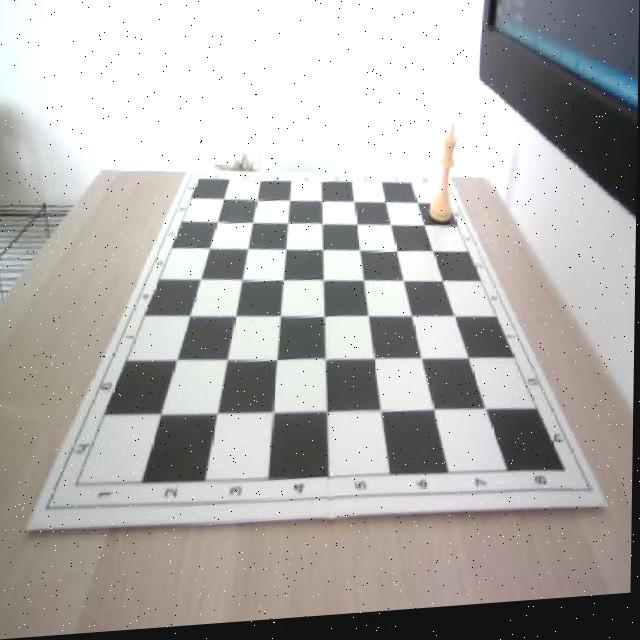white-bishop: (430, 128, 458, 232)
